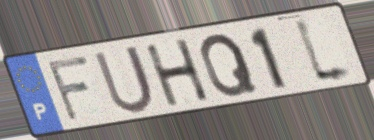1: (248, 24, 289, 92)
F: (44, 53, 93, 125)
H: (141, 36, 213, 109)
L: (290, 13, 361, 88)
Q: (198, 31, 261, 100)
U: (90, 42, 156, 116)
